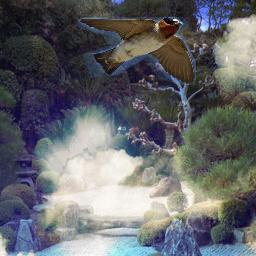Swallow: (78, 17, 196, 85)
